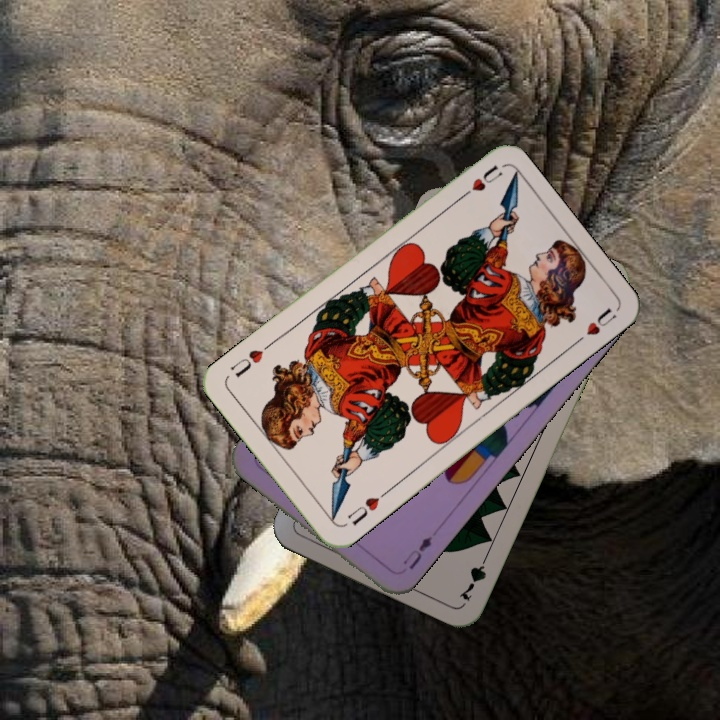EU: (398, 532, 435, 572)
G7: (455, 548, 492, 604)
HU: (453, 161, 506, 204), (343, 487, 390, 529)
